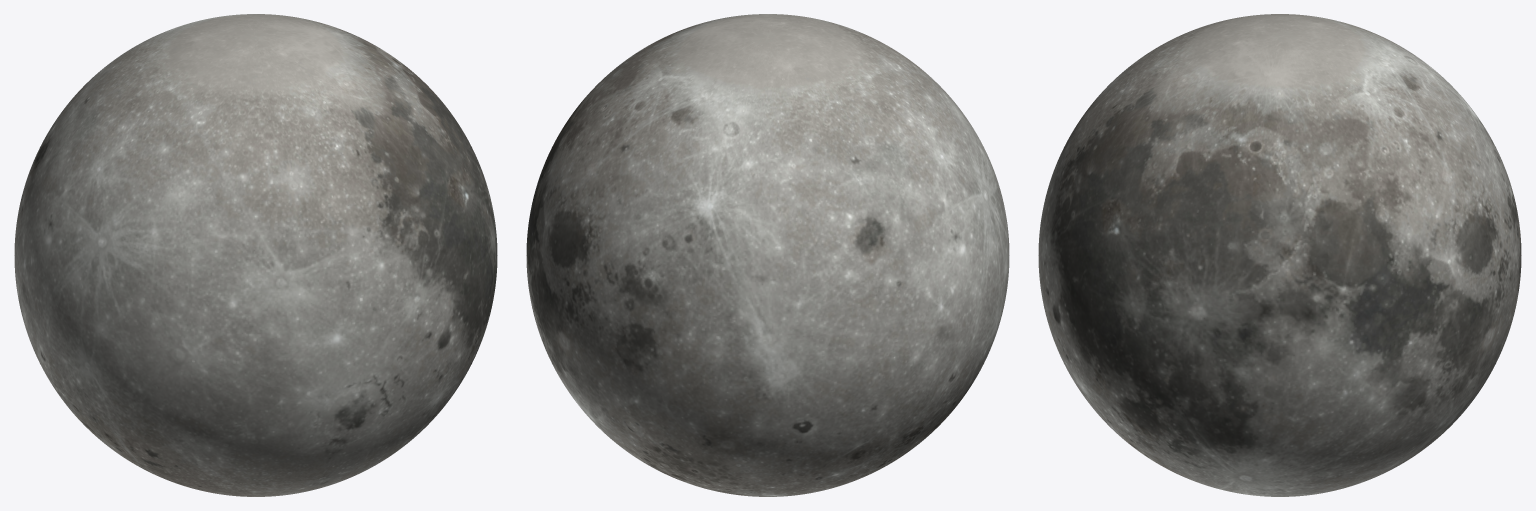
The model's file is Lune.glb.
The picture shows the model from 3 angles, left to right: view 1: azimuth 30°, elevation 25°; view 2: azimuth 150°, elevation 25°; view 3: azimuth 270°, elevation 25°; orthographic projection.
Parts seen in each view (by area): view 1: lune; view 2: lune; view 3: lune.
Boxes of the visible parts, x1=… form: lune: x1=14, y1=14, x2=497, y2=496; lune: x1=526, y1=14, x2=1009, y2=496; lune: x1=1038, y1=14, x2=1521, y2=496.
Bounding box in the file's own units: 2 × 2 × 2.
1 material, 1 textured.
